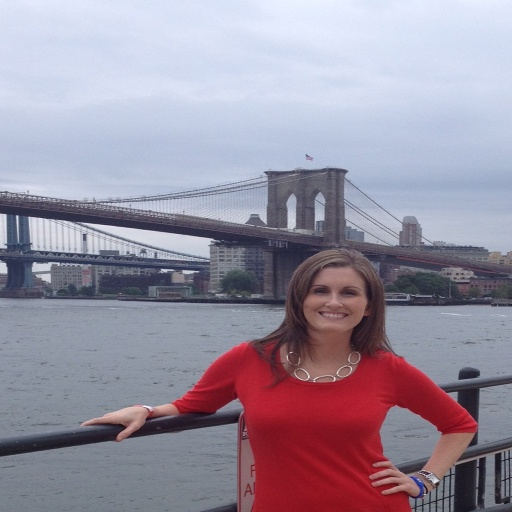hand: (80, 411, 163, 441), (367, 459, 429, 497)
